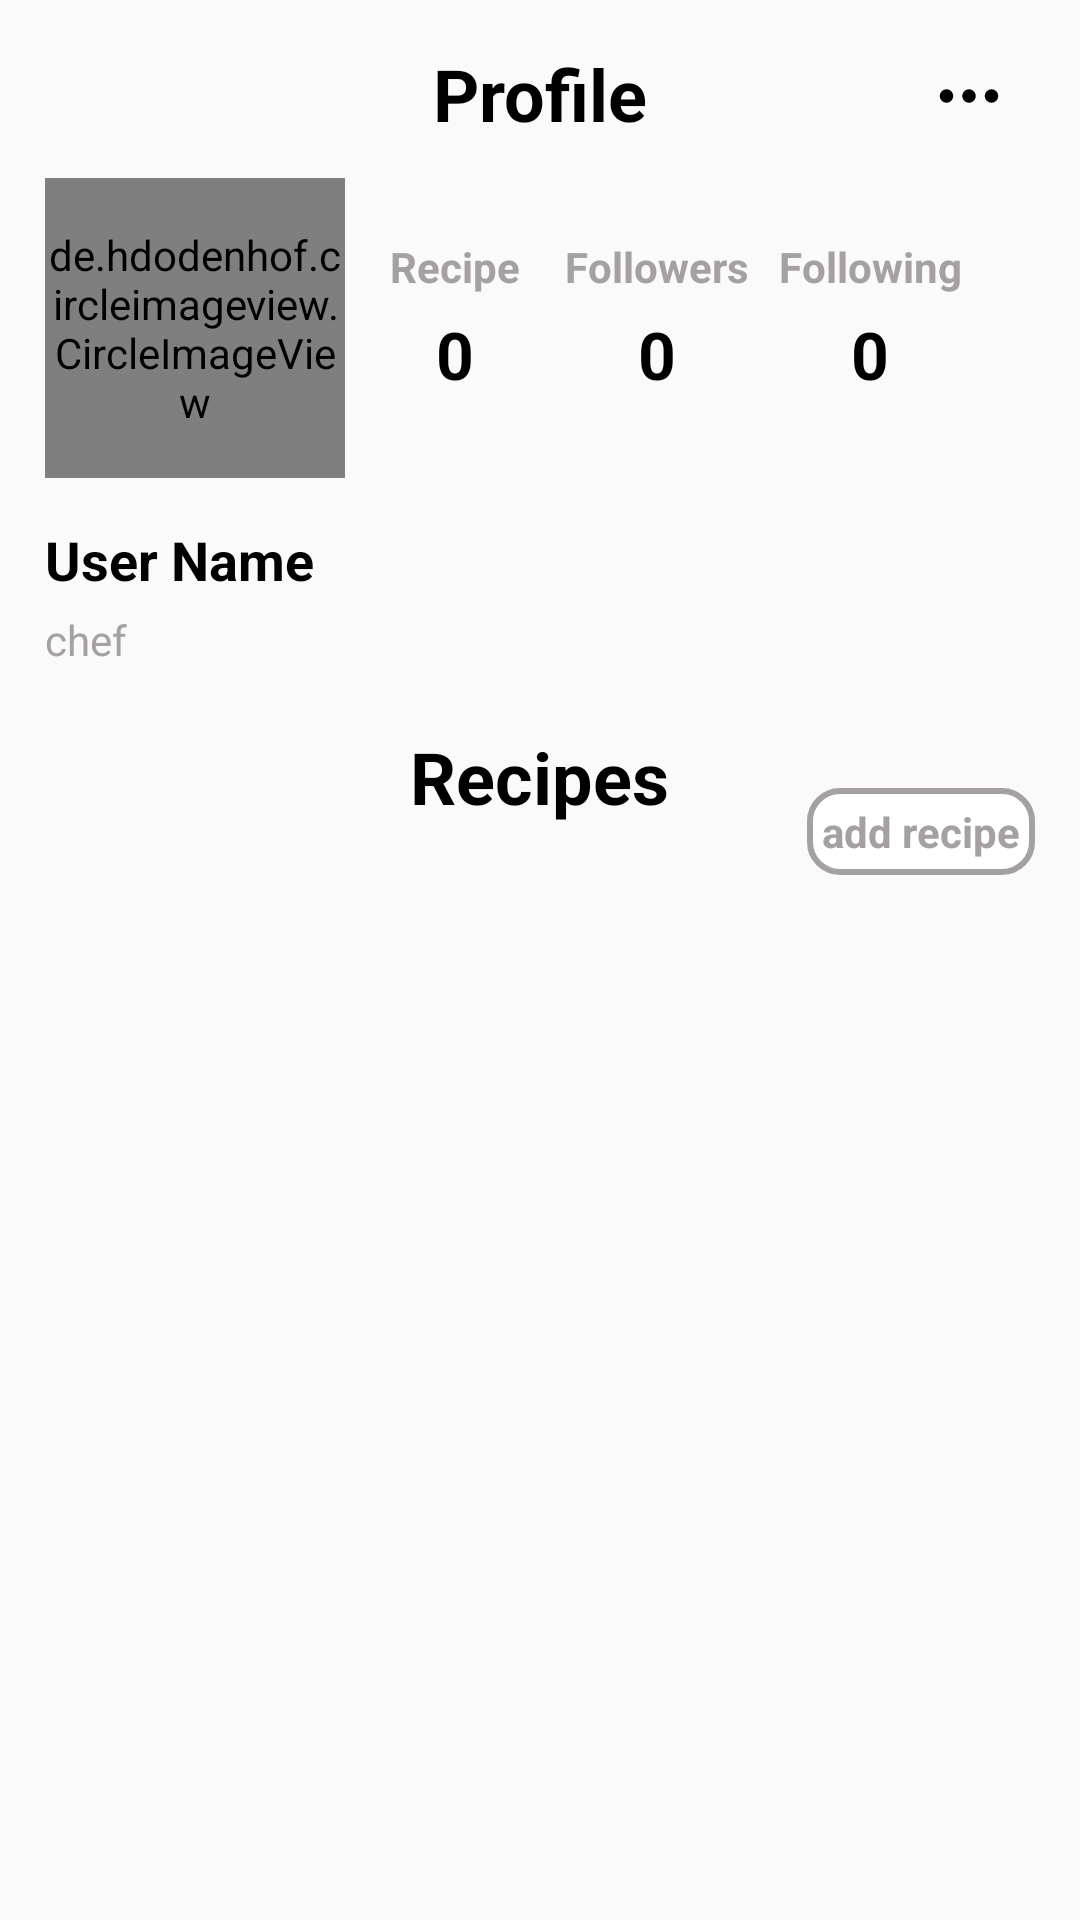

Icons on this 1080x1920 Android screen, each with the point to tap as [x,y]:
menu: [969,96]
